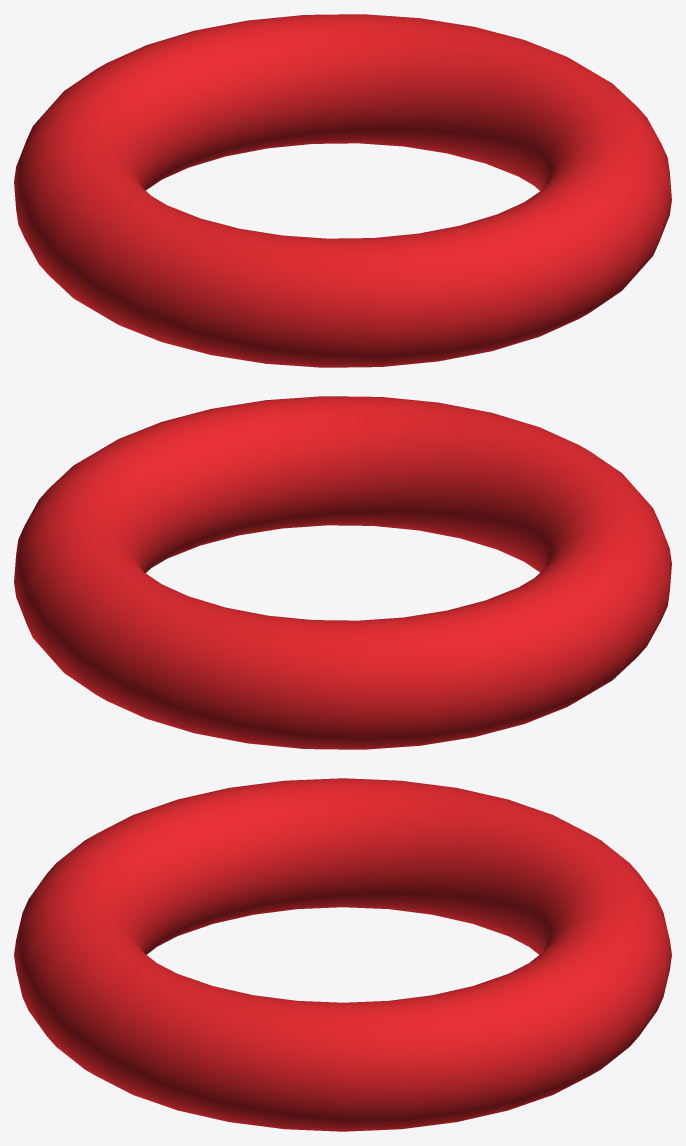
Rendered from finish.glb.
3 renders of one model, top to bottom at view 1: azimuth 30°, elevation 25°; view 2: azimuth 150°, elevation 25°; view 3: azimuth 270°, elevation 25°, orthographic.
Parts seen in each view (by area): view 1: Torus; view 2: Torus; view 3: Torus.
Boxes of the visible parts, x1=… form: Torus: x1=14, y1=14, x2=671, y2=367; Torus: x1=14, y1=396, x2=671, y2=749; Torus: x1=14, y1=778, x2=671, y2=1131.
Bounding box in the file's own units: 2.41 × 0.4777 × 2.41.
